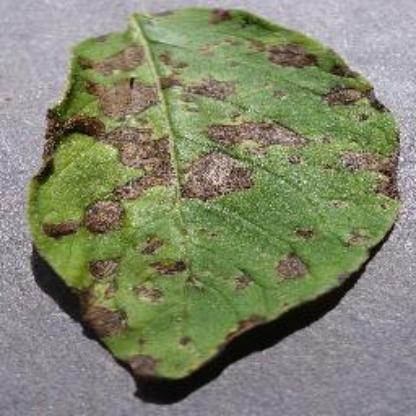Early-Blight: (22, 0, 415, 386)
